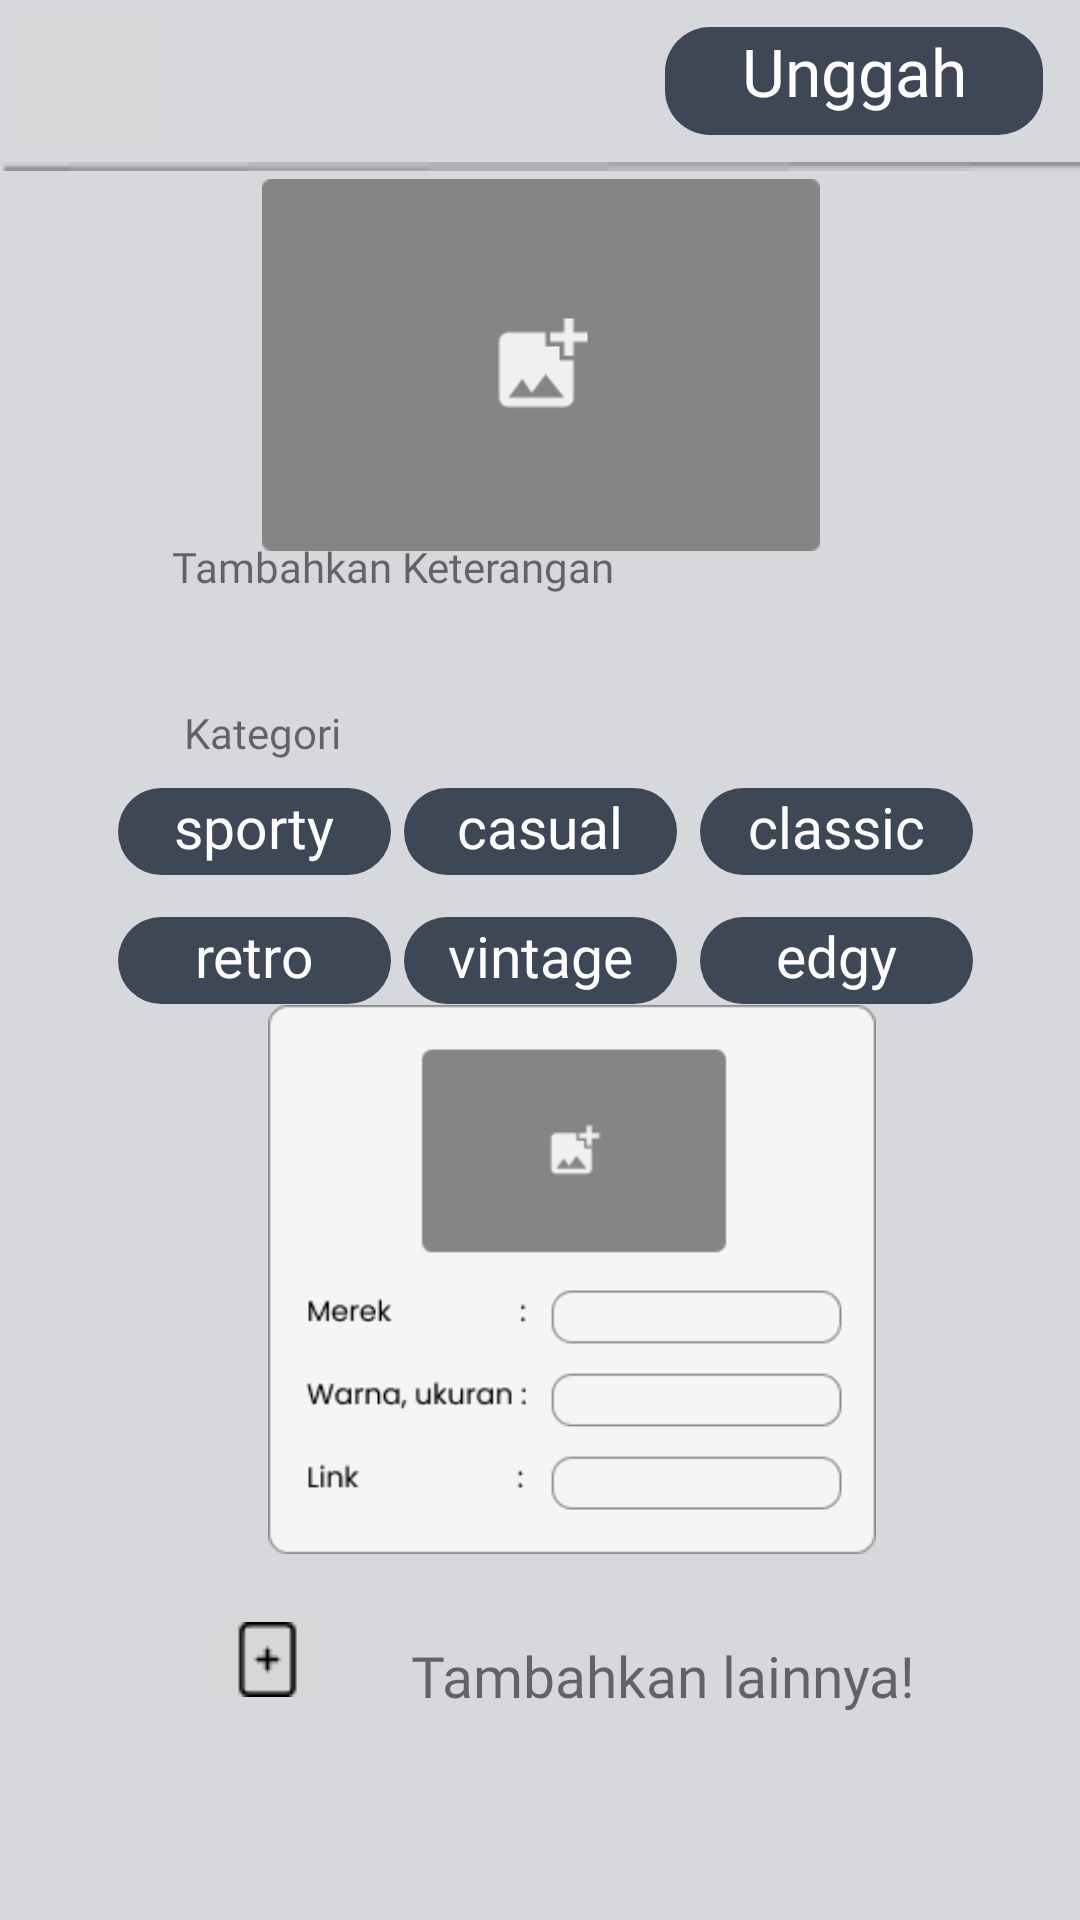

Icon bounding boxes for this 1080 × 1920 phone screenshot, format (x1, y1, x2, y2):
ples: (238, 1622, 297, 1697)
